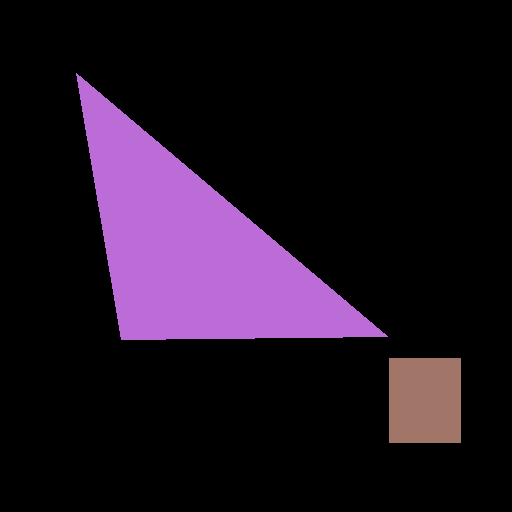rectangle: (389, 358, 460, 442)
triangle: (76, 73, 387, 339)
